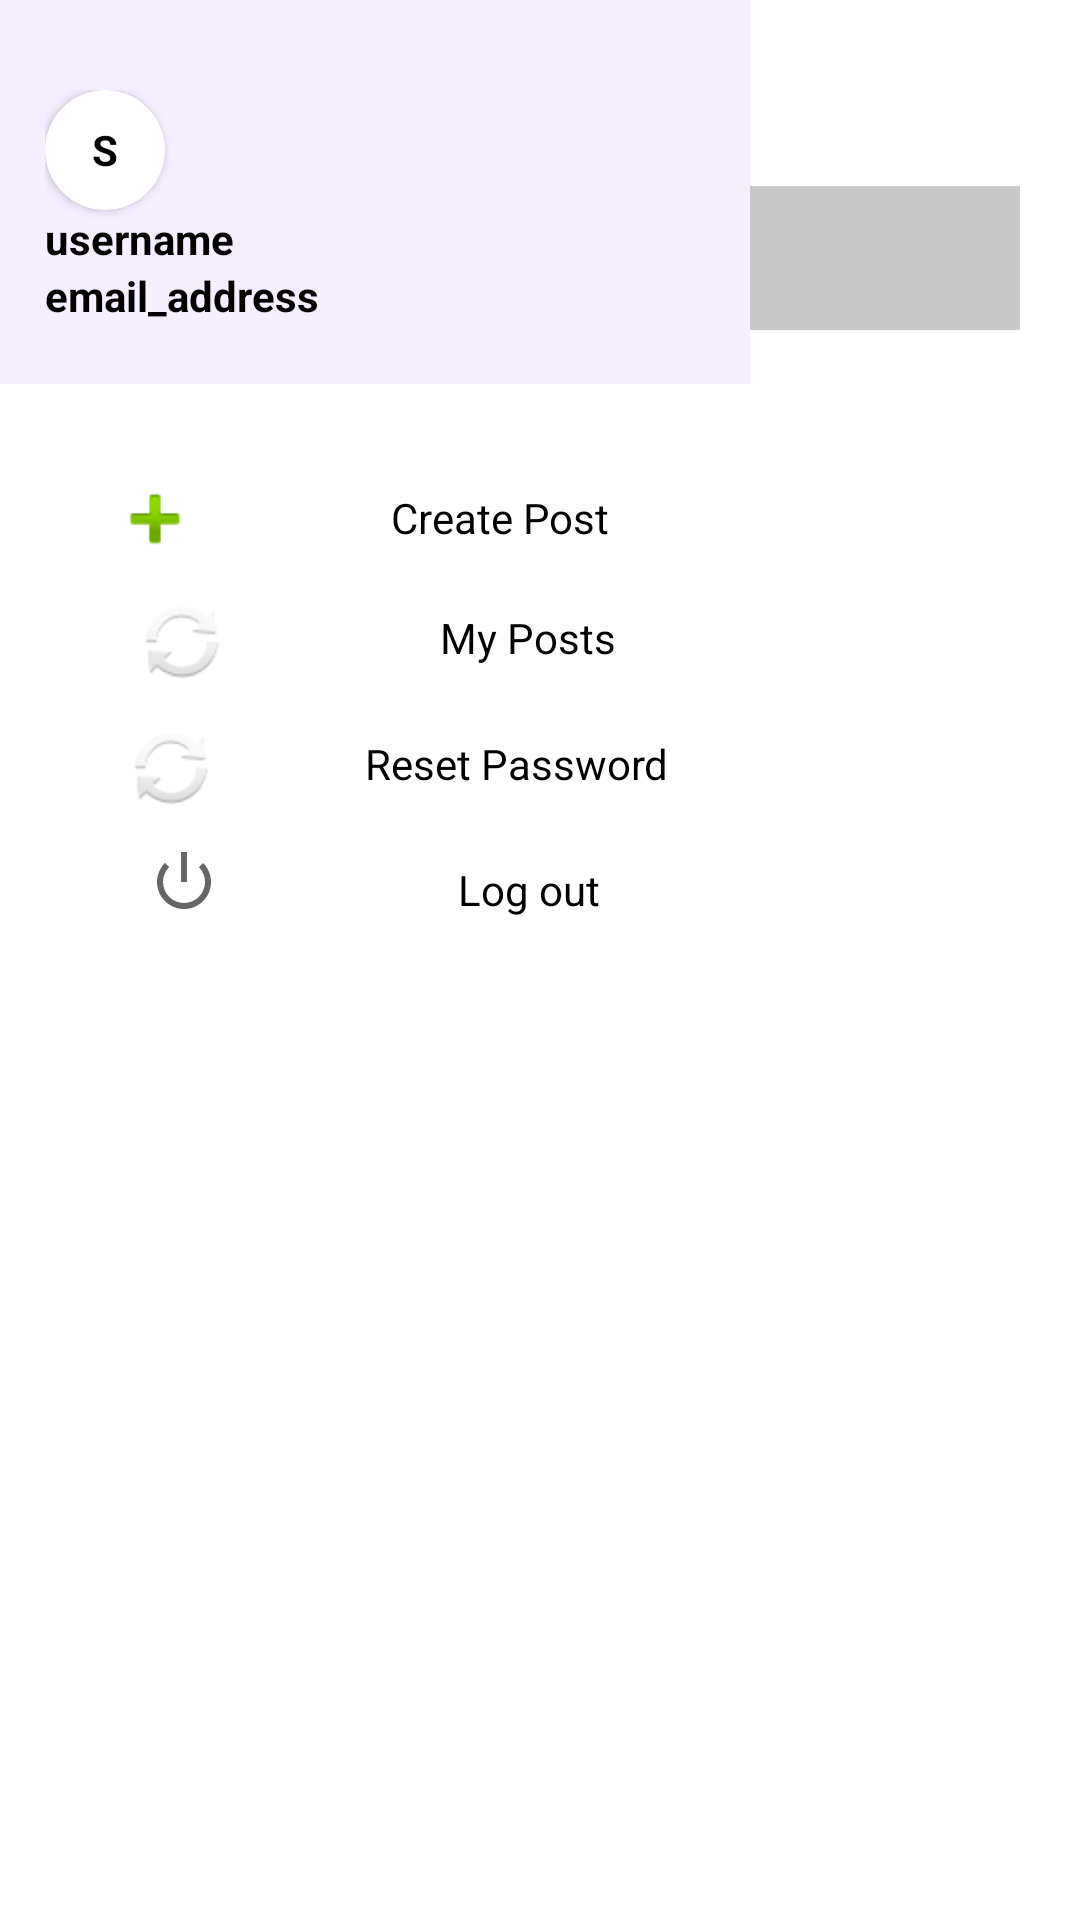

Locate icon controls on the screen. Image size 1080 × 1920, boxes as [x1=x1, y1=y1, x2=x2, y2=y2].
add: [x1=129, y1=493, x2=181, y2=545]
lock power off: [x1=157, y1=852, x2=211, y2=909]
popup sync: [x1=146, y1=614, x2=218, y2=678], [x1=135, y1=741, x2=207, y2=804]
